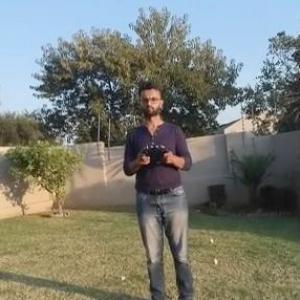follow: (118, 78, 200, 299)
